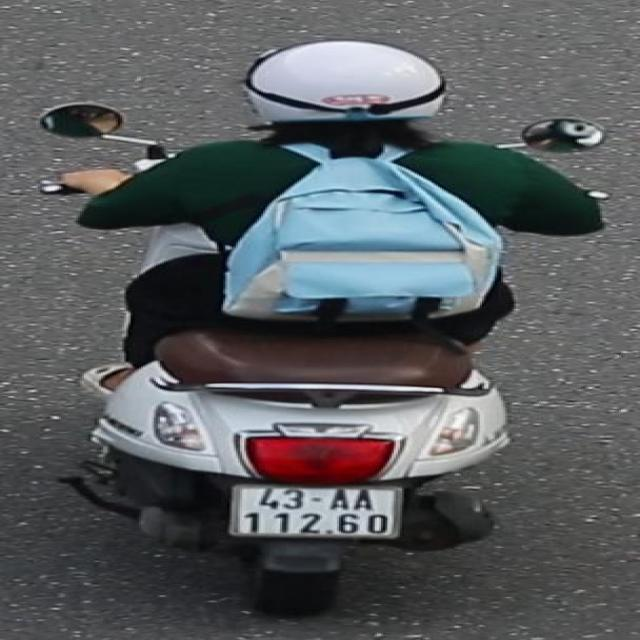LP: (222, 482, 407, 550)
helmet: (241, 33, 450, 132)
